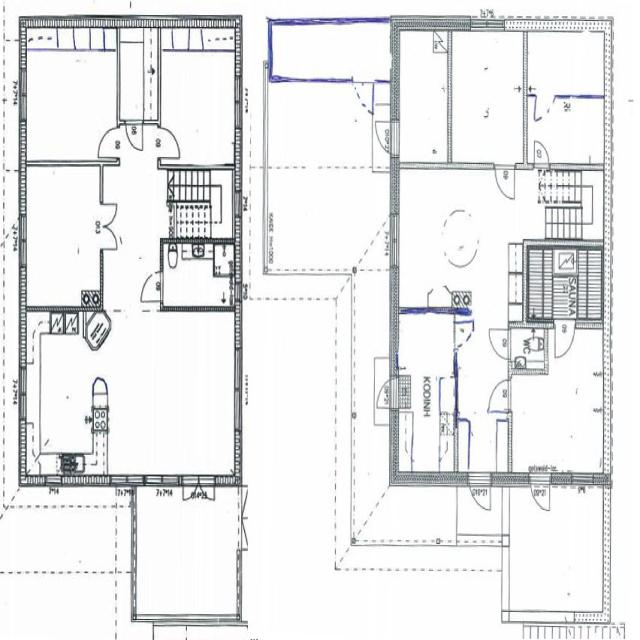door: (96, 197, 122, 253), (552, 318, 577, 363), (468, 471, 493, 515), (492, 161, 517, 204), (351, 75, 376, 116), (528, 474, 552, 516), (95, 123, 122, 160), (156, 124, 182, 161), (487, 376, 512, 414), (138, 268, 163, 306), (372, 118, 397, 156), (488, 325, 512, 362), (452, 316, 476, 351), (375, 376, 397, 412), (124, 118, 144, 153), (180, 473, 201, 506), (196, 474, 217, 507), (534, 92, 556, 122), (532, 138, 552, 170)
window: (229, 340, 246, 436), (17, 363, 31, 424), (388, 212, 402, 272), (141, 471, 181, 491), (16, 211, 30, 268), (17, 66, 30, 126), (232, 71, 244, 132), (469, 17, 505, 35), (568, 470, 598, 491), (239, 517, 251, 554), (42, 473, 64, 490)
zone: (23, 307, 239, 478), (394, 164, 522, 316), (509, 321, 607, 479), (132, 486, 243, 624), (518, 167, 608, 323), (22, 21, 119, 165), (21, 166, 104, 312), (158, 26, 238, 170), (448, 30, 526, 168), (394, 311, 457, 481), (396, 29, 450, 168), (528, 94, 608, 168), (525, 32, 606, 98), (162, 242, 234, 310), (119, 24, 159, 126), (509, 324, 548, 374)
